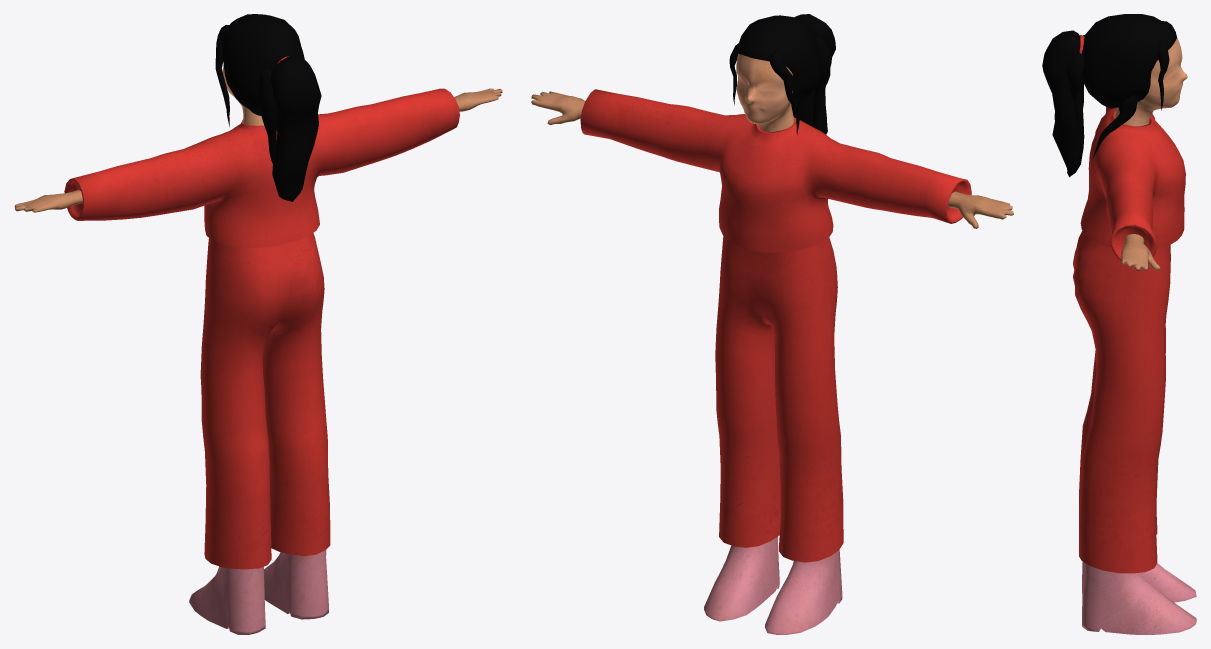
File: female_01.fbx
3 views of the same model, side by side, from view 1: azimuth 30°, elevation 25°; view 2: azimuth 150°, elevation 25°; view 3: azimuth 270°, elevation 25° (orthographic).
Parts seen in each view (by area): view 1: Female_character_01.001; view 2: Female_character_01.001; view 3: Female_character_01.001.
Part boxes in pixels (left/top/right/bottom): Female_character_01.001: left=14, top=14, right=502, bottom=634; Female_character_01.001: left=531, top=14, right=1013, bottom=634; Female_character_01.001: left=1042, top=14, right=1196, bottom=634.
Bounding box in the file's own units: 1.61 × 0.4389 × 1.85.
